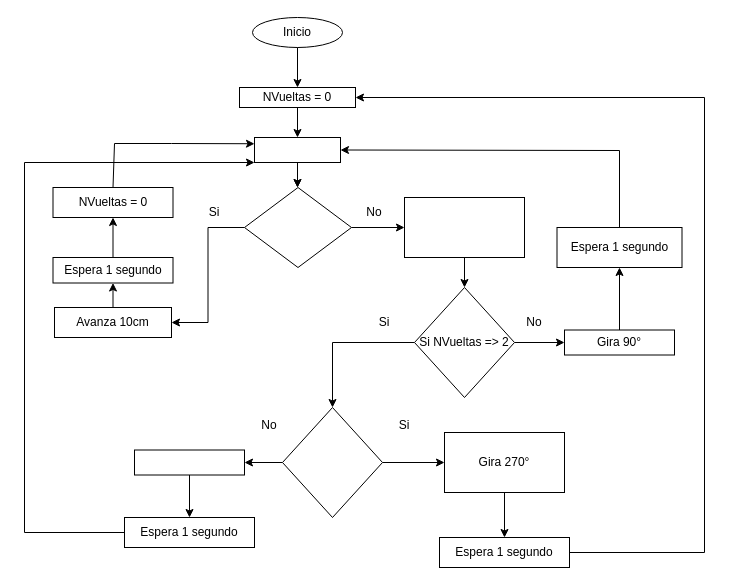
Some shapes in this 730 by 585 pixel diagram are drawn without their labels. Here are the shapes that lost their labels. From the top down, the box of each, then its label:
(254, 136, 340, 162): Leer sensor distancia (SD)
(244, 186, 352, 268): Si SD => 10cm
(404, 196, 524, 258): NVueltas = Nvueltas + 1
(134, 449, 244, 475): Giras 180°
(282, 406, 382, 518): Si NVueltas => 3
